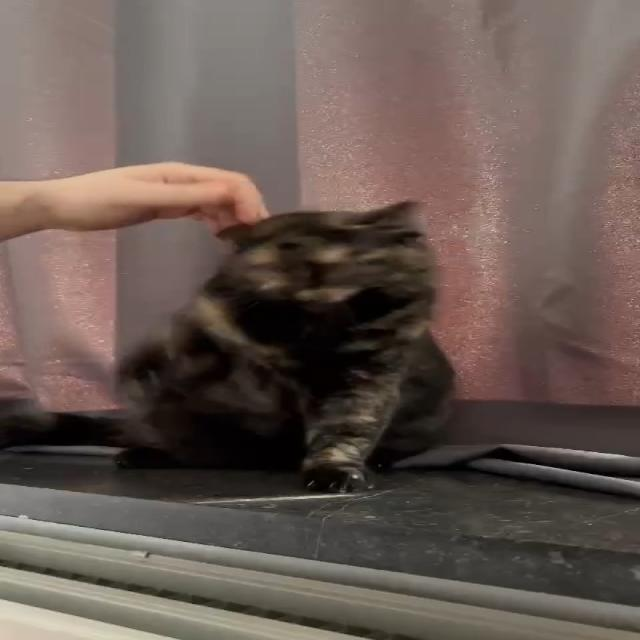authorized: (109, 198, 459, 494)
